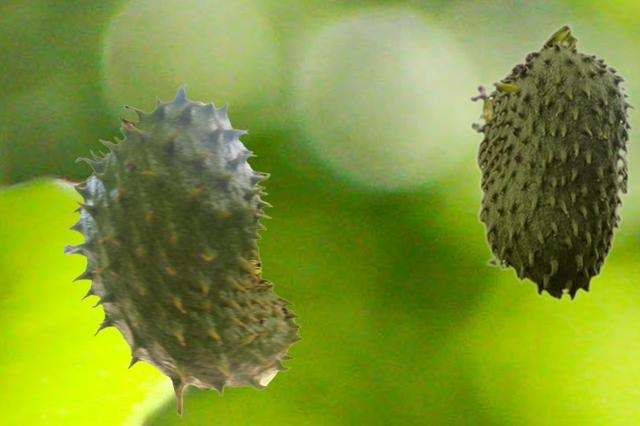guyabano: (63, 83, 302, 417), (469, 22, 637, 301)
